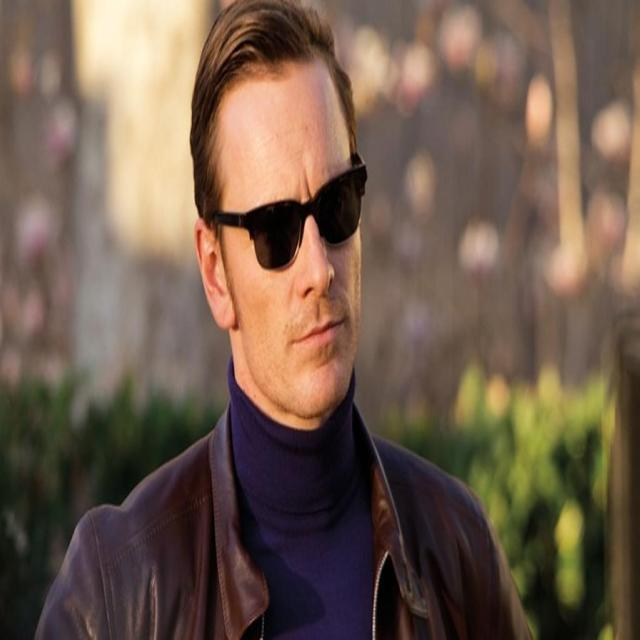Face: (214, 62, 366, 413)
